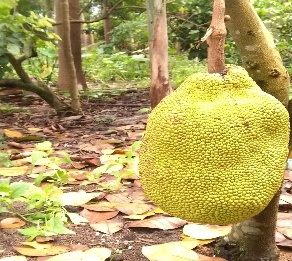Mit: (135, 66, 288, 225)
